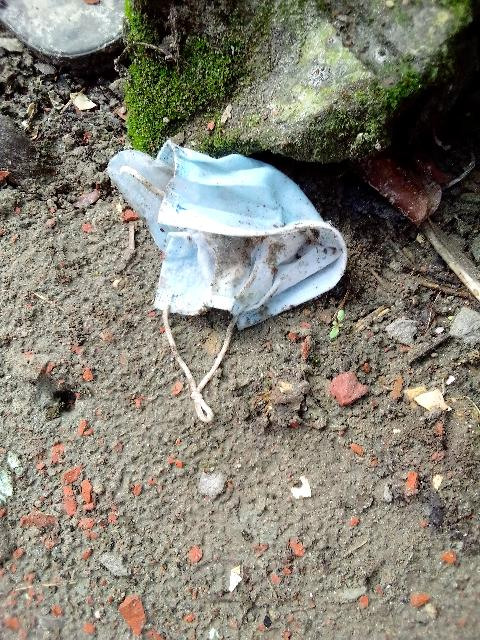mask: (93, 114, 347, 322)
